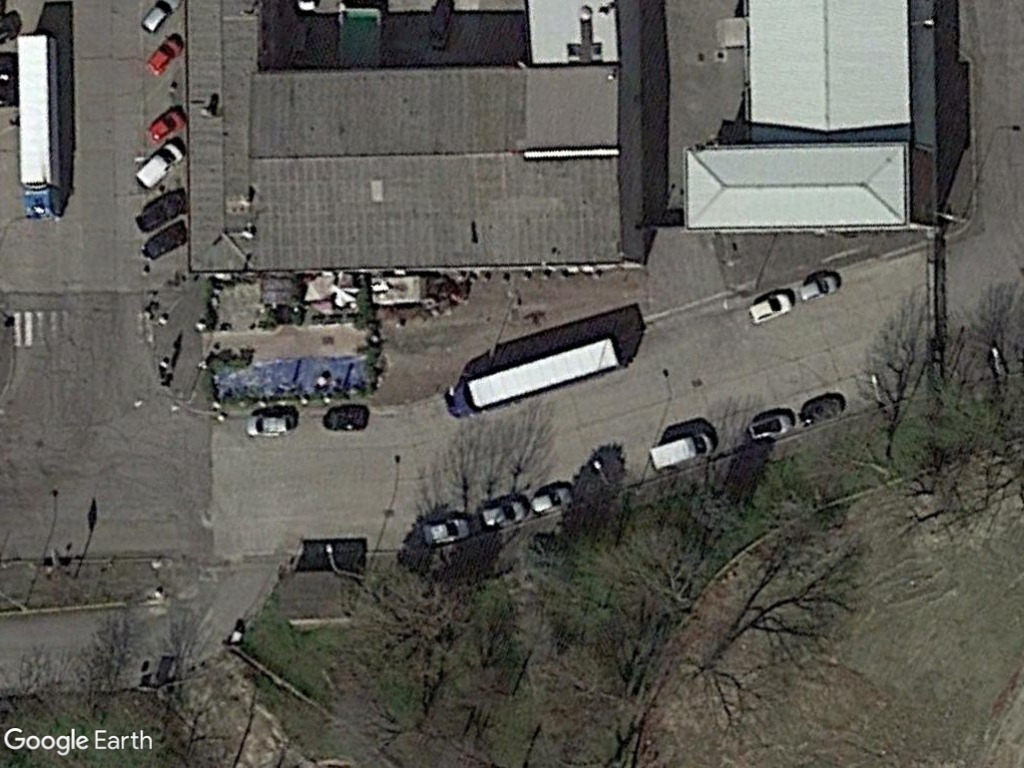car: (418, 514, 476, 549), (745, 408, 796, 446), (793, 268, 844, 305), (476, 498, 531, 532), (144, 32, 184, 78), (743, 292, 797, 325), (526, 482, 575, 517), (241, 411, 300, 439), (142, 106, 187, 140)
longvehicle: (437, 334, 625, 422), (14, 31, 69, 222)
van: (132, 136, 188, 193), (644, 428, 714, 473)
